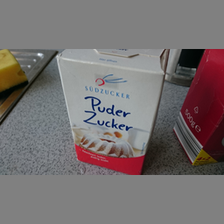tomato_sauce: (55, 49, 170, 174)
